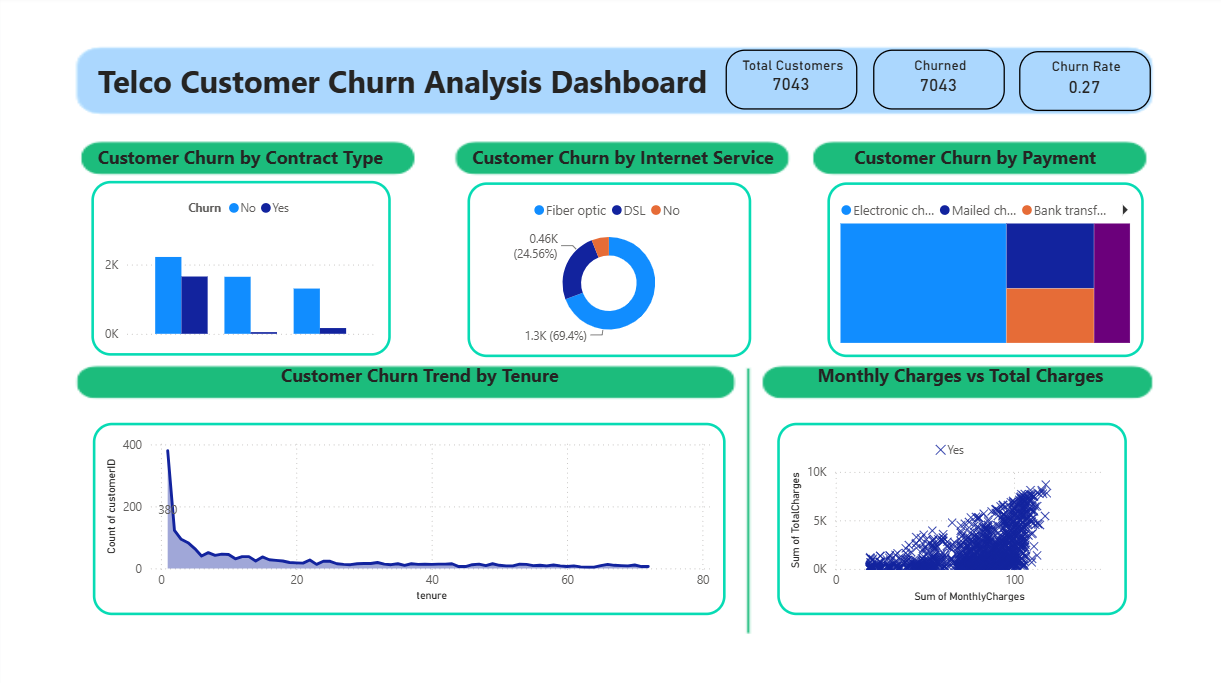

The page's visual inventory and layout, read from the dashboard file:
{"tool":"powerbi","page":{"name":"Page 1","canvas":[1280,720],"ordinal":0},"visuals":[{"type":"clusteredColumnChart","title":"Customer Churn by Contract Type","fields":{"Category":["Telco_CCC.Contract"],"Y":["CountNonNull(Telco_CCC.customerID)"],"Series":["Telco_CCC.Churn"]},"box":[101.7,193.7,311,181.9],"z":0},{"type":"donutChart","title":"Customer Churn by Internet Service","fields":{"Y":["CountNonNull(Telco_CCC.customerID)"],"Series":["Telco_CCC.Churn"],"Category":["Telco_CCC.InternetService"]},"box":[492.1,194.8,294.8,181.6],"z":1000},{"type":"textbox","box":[102.6,150,310.6,44.7],"z":2000},{"type":"stackedAreaChart","title":"Customer Churn by Internet Service","fields":{"Y":["CountNonNull(Telco_CCC.customerID)"],"Series":["Telco_CCC.Churn"],"Category":["Telco_CCC.tenure"]},"box":[102.6,444.8,657.9,200],"z":3000},{"type":"treemap","title":"Customer Churn by Internet Service","fields":{"Values":["CountNonNull(Telco_CCC.customerID)"],"Details":["Telco_CCC.Churn"],"Group":["Telco_CCC.PaymentMethod"]},"box":[865.9,194.8,329,181.6],"z":4000},{"type":"scatterChart","title":"Customer Churn by Internet Service","fields":{"Series":["Telco_CCC.Churn"],"X":["Sum(Telco_CCC.MonthlyCharges)"],"Y":["Sum(Telco_CCC.TotalCharges)"],"Category":["Telco_CCC.customerID"]},"box":[813.2,444.8,363.2,200],"z":5000},{"type":"textbox","box":[492.1,150,655.3,44.7],"z":6000},{"type":"textbox","box":[889.5,150,389.5,44.7],"z":7000},{"type":"textbox","box":[142.1,376.3,600.1,68.4],"z":8000},{"type":"textbox","box":[850.1,376.3,344.8,94.7],"z":8001},{"type":"textbox","box":[102.6,63.2,881.7,86.8],"z":8002},{"type":"card","title":"Churn Rate","fields":{"Values":["Telco_CCC.Churn Rate"]},"box":[1065,57.9,137.1,62.5],"z":8003},{"type":"card","title":"Churned","fields":{"Values":["Telco_CCC.Total Churned Customers"]},"box":[914.2,56.4,137.1,62.5],"z":8004},{"type":"card","title":"Total Customers","fields":{"Values":["Count(Telco_CCC.customerID)"]},"box":[760.3,56.4,137.1,62.5],"z":8005}]}

Visuals, with their boxes in screenshot pixels (x1, y1, x2, y2), scaled from the page's 1280x720 canvas onto the 1221x683 screenshot:
"Customer Churn by Contract Type" clusteredColumnChart: <bbox>97, 184, 394, 356</bbox>
"Customer Churn by Internet Service" donutChart: <bbox>469, 185, 751, 357</bbox>
textbox: <bbox>98, 142, 394, 185</bbox>
"Customer Churn by Internet Service" stackedAreaChart: <bbox>98, 422, 725, 612</bbox>
"Customer Churn by Internet Service" treemap: <bbox>826, 185, 1140, 357</bbox>
"Customer Churn by Internet Service" scatterChart: <bbox>776, 422, 1122, 612</bbox>
textbox: <bbox>469, 142, 1095, 185</bbox>
textbox: <bbox>848, 142, 1220, 185</bbox>
textbox: <bbox>136, 357, 708, 422</bbox>
textbox: <bbox>811, 357, 1140, 447</bbox>
textbox: <bbox>98, 60, 939, 142</bbox>
"Churn Rate" card: <bbox>1016, 55, 1147, 114</bbox>
"Churned" card: <bbox>872, 54, 1003, 113</bbox>
"Total Customers" card: <bbox>725, 54, 856, 113</bbox>
